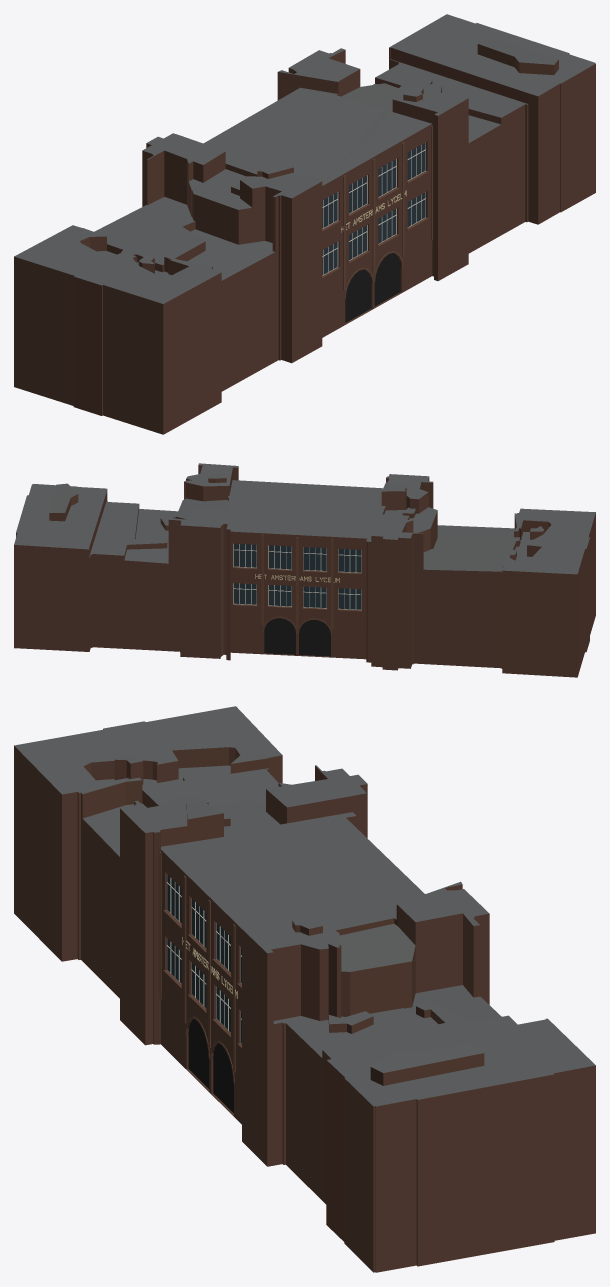
File: recipe-large-amsterdams-lyceum.glb
The picture shows the model from 3 angles, top to bottom: view 1: azimuth 30°, elevation 25°; view 2: azimuth 150°, elevation 25°; view 3: azimuth 270°, elevation 25°; orthographic projection. The views are drawn at different scales.
Visible parts, largest first — view 1: amsterdams-lyceum; view 2: amsterdams-lyceum; view 3: amsterdams-lyceum.
Part boxes in pixels (x1,y1,x2,y2): amsterdams-lyceum: (14, 14, 595, 434); amsterdams-lyceum: (14, 463, 595, 677); amsterdams-lyceum: (14, 706, 595, 1272).
Size of the model in its own units: 77.47 by 19.92 by 47.77.
